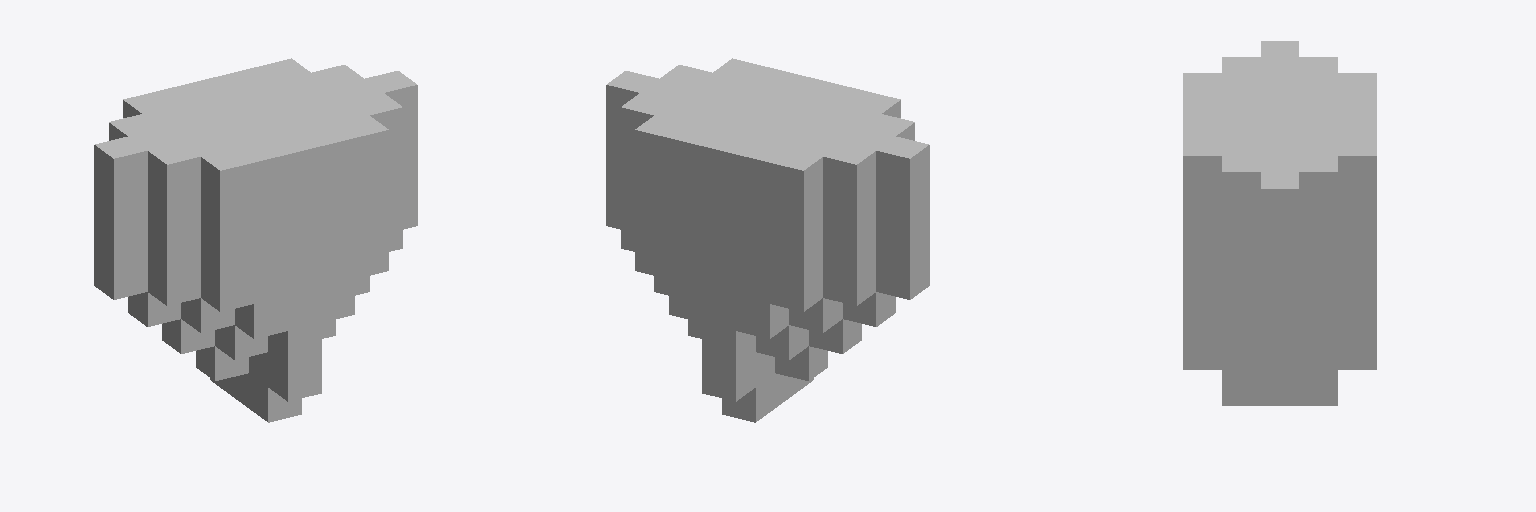
File: arrow.obj
3 renders of one model, left to right at view 1: azimuth 30°, elevation 25°; view 2: azimuth 150°, elevation 25°; view 3: azimuth 270°, elevation 25°, orthographic.
Visible parts, largest first — view 1: object 1; view 2: object 1; view 3: object 1.
Part boxes in pixels (bbox=[...]): object 1: bbox=[94, 58, 417, 422]; object 1: bbox=[606, 58, 929, 422]; object 1: bbox=[1183, 41, 1376, 405].
Size of the model in its own units: 0.9 by 0.8 by 0.5.